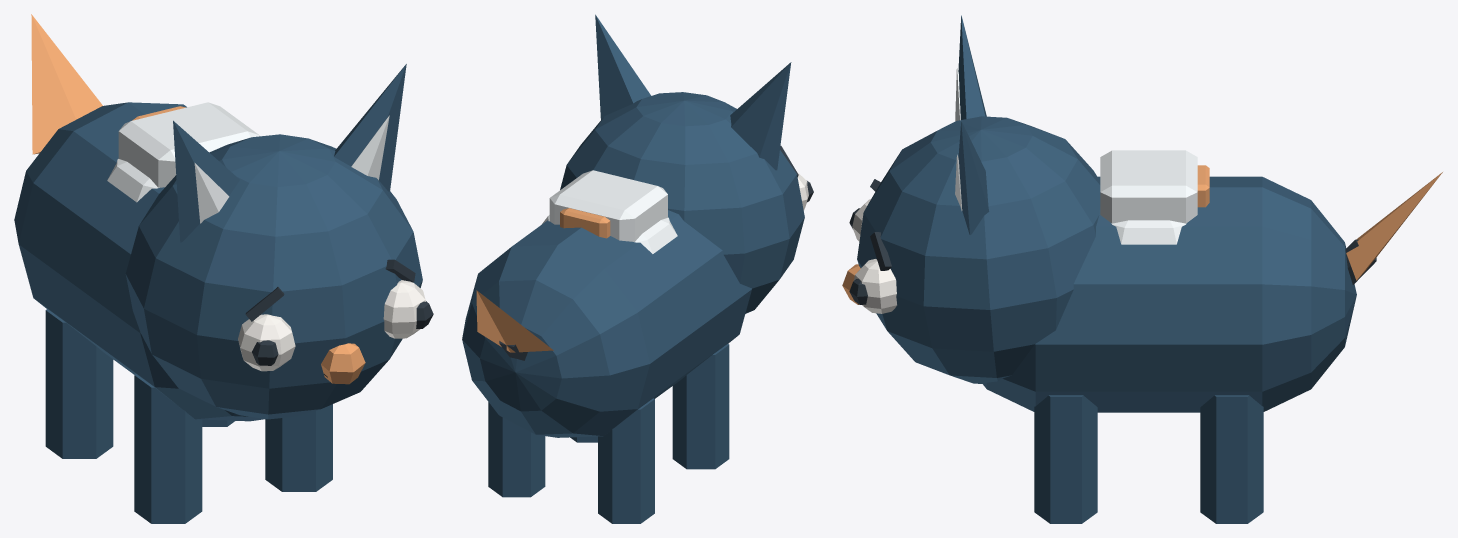
The model's file is bean-lab-2.glb.
3 views of the same model, side by side, from view 1: azimuth 30°, elevation 25°; view 2: azimuth 150°, elevation 25°; view 3: azimuth 270°, elevation 25° (orthographic). The views are drawn at different scales.
Visible parts, largest first — view 1: bean-lab-2; view 2: bean-lab-2; view 3: bean-lab-2.
Boxes of the visible parts, <box> form: bean-lab-2: <box>14,14,433,523</box>; bean-lab-2: <box>462,14,813,523</box>; bean-lab-2: <box>842,15,1442,523</box>.
Bounding box in the file's own units: 0.4296 × 0.7 × 0.9186.
